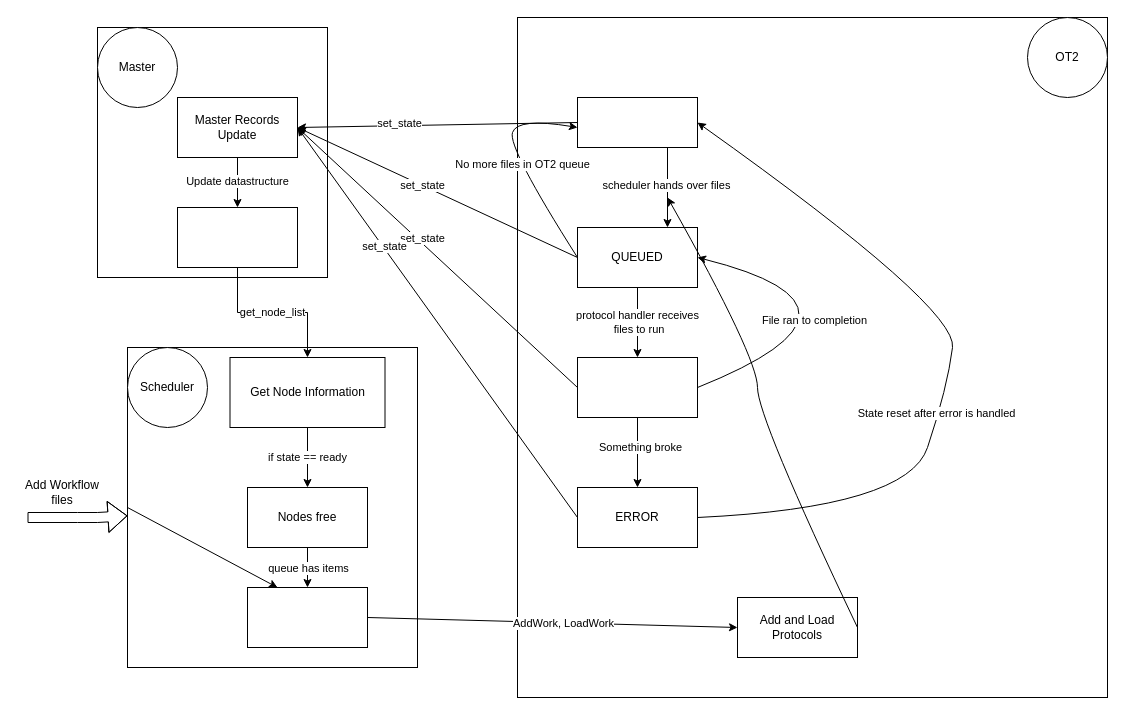
Some shapes in this 1125 by 715 pixel diagram are drawn without their labels. The centre of each missing label's shape, as x and y in pixels:
BUSY: the point at 637,387
Master Records: the point at 237,237
READY: the point at 637,122
send work: the point at 307,617
